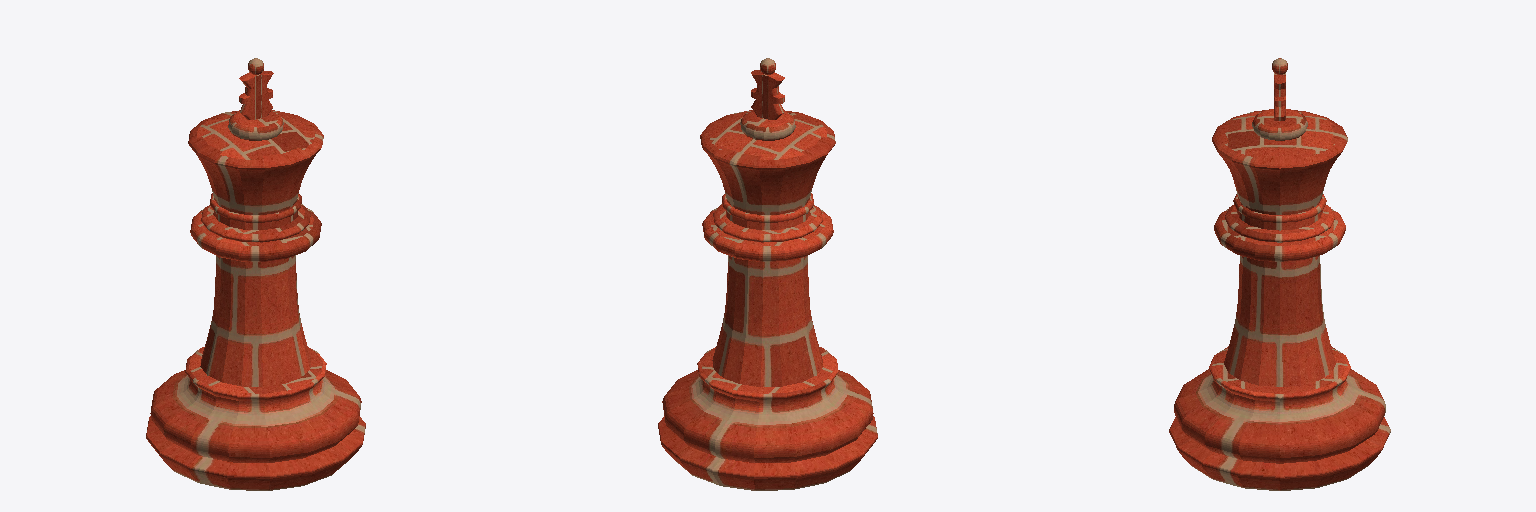
3 renders of one model, left to right at view 1: azimuth 30°, elevation 25°; view 2: azimuth 150°, elevation 25°; view 3: azimuth 270°, elevation 25°, orthographic.
Parts seen in each view (by area): view 1: Line001; view 2: Line001; view 3: Line001.
Part boxes in pixels (bbox=[...]): Line001: bbox=[146, 58, 365, 490]; Line001: bbox=[658, 58, 877, 490]; Line001: bbox=[1169, 58, 1390, 490].
Size of the model in its own units: 107 by 209 by 107.
1 materials, 1 textured.